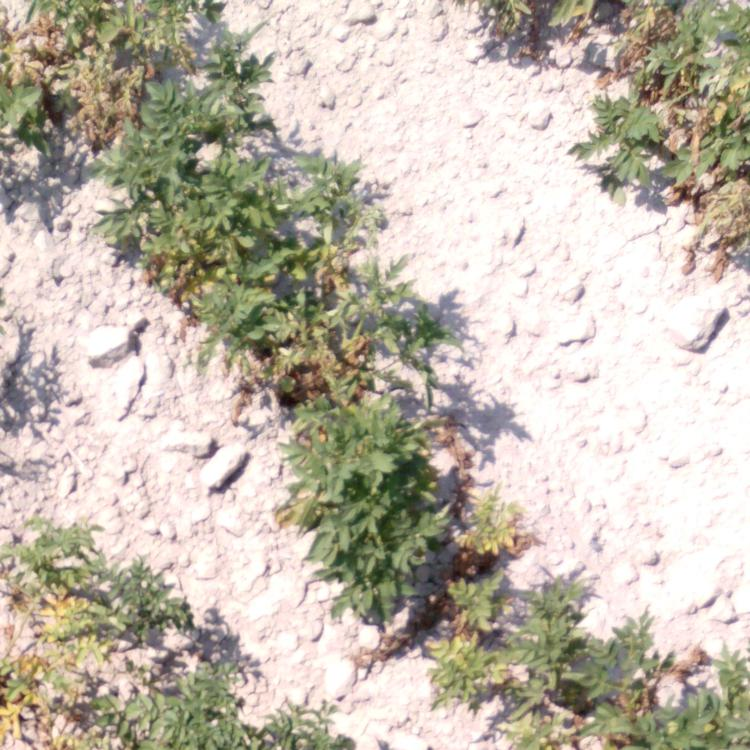healthy: (120, 119, 302, 253), (320, 411, 421, 575), (146, 665, 314, 744)
stressed: (2, 524, 126, 742), (537, 604, 740, 735), (191, 261, 386, 396), (627, 13, 747, 222), (1, 3, 202, 112), (432, 494, 529, 683), (477, 3, 598, 50)
